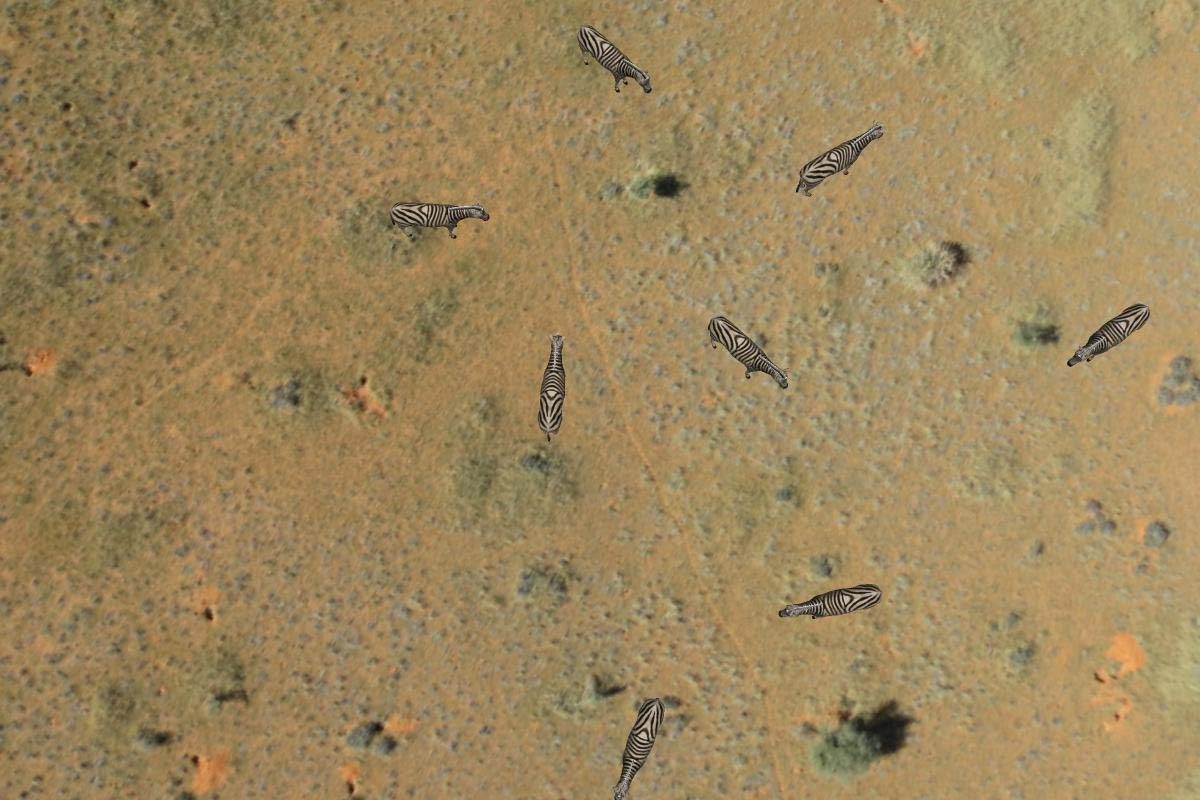zebra: (692, 306, 796, 396), (784, 115, 894, 200), (569, 12, 665, 108), (386, 185, 490, 258), (1059, 296, 1153, 373), (769, 577, 888, 633), (607, 694, 669, 800), (530, 329, 580, 442)
